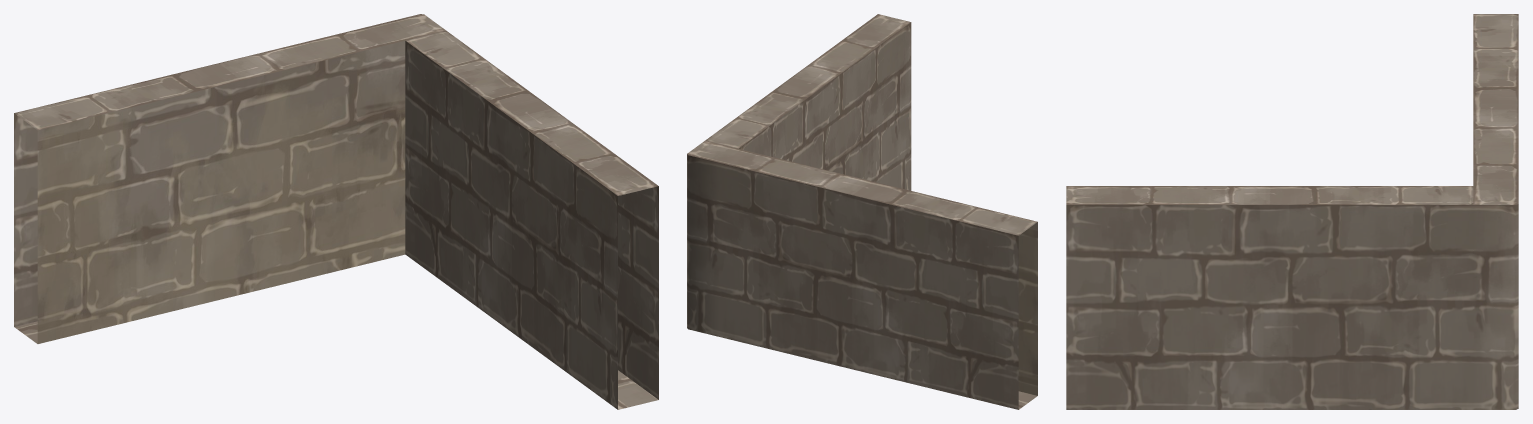
Rendered from Stairs_Exterior_Sides45.gltf.
The picture shows the model from 3 angles, left to right: view 1: azimuth 30°, elevation 25°; view 2: azimuth 150°, elevation 25°; view 3: azimuth 270°, elevation 25°; orthographic projection. The views are drawn at different scales.
Visible parts, largest first — view 1: Stairs_Exterior_Sides45; view 2: Stairs_Exterior_Sides45; view 3: Stairs_Exterior_Sides45.
Boxes of the visible parts, x1,y1,x2,y2 form: Stairs_Exterior_Sides45: [14, 14, 658, 409]; Stairs_Exterior_Sides45: [687, 14, 1037, 409]; Stairs_Exterior_Sides45: [1066, 14, 1518, 409].
Bounding box in the file's own units: 2 × 1 × 2.
1 material, 1 textured.
